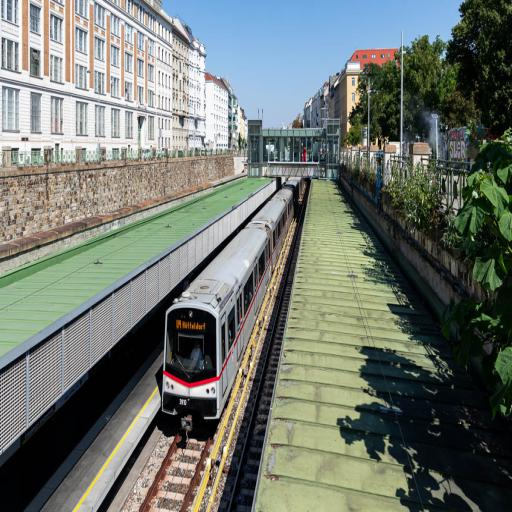V-Wagen: (161, 175, 302, 433)
